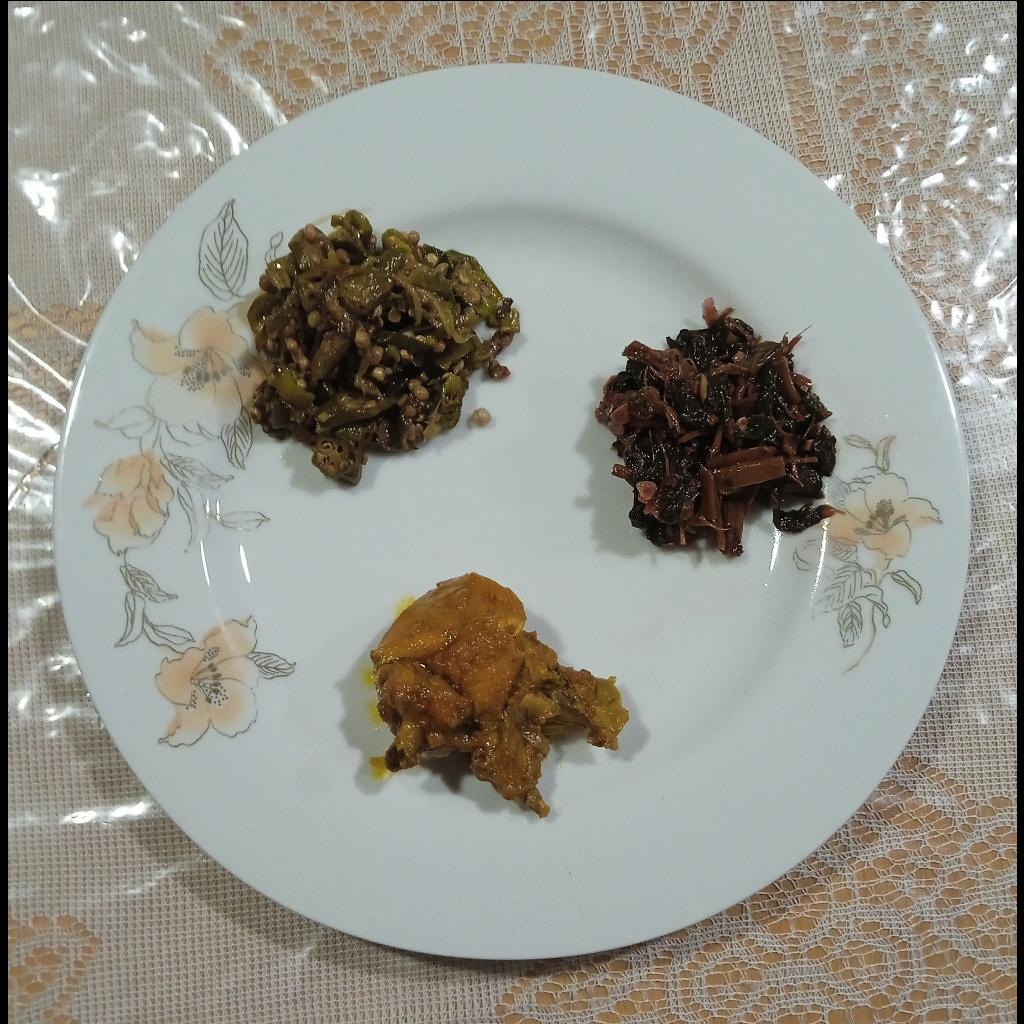chicken: (371, 570, 634, 822)
okra: (245, 203, 521, 485)
shak: (589, 291, 843, 554)
